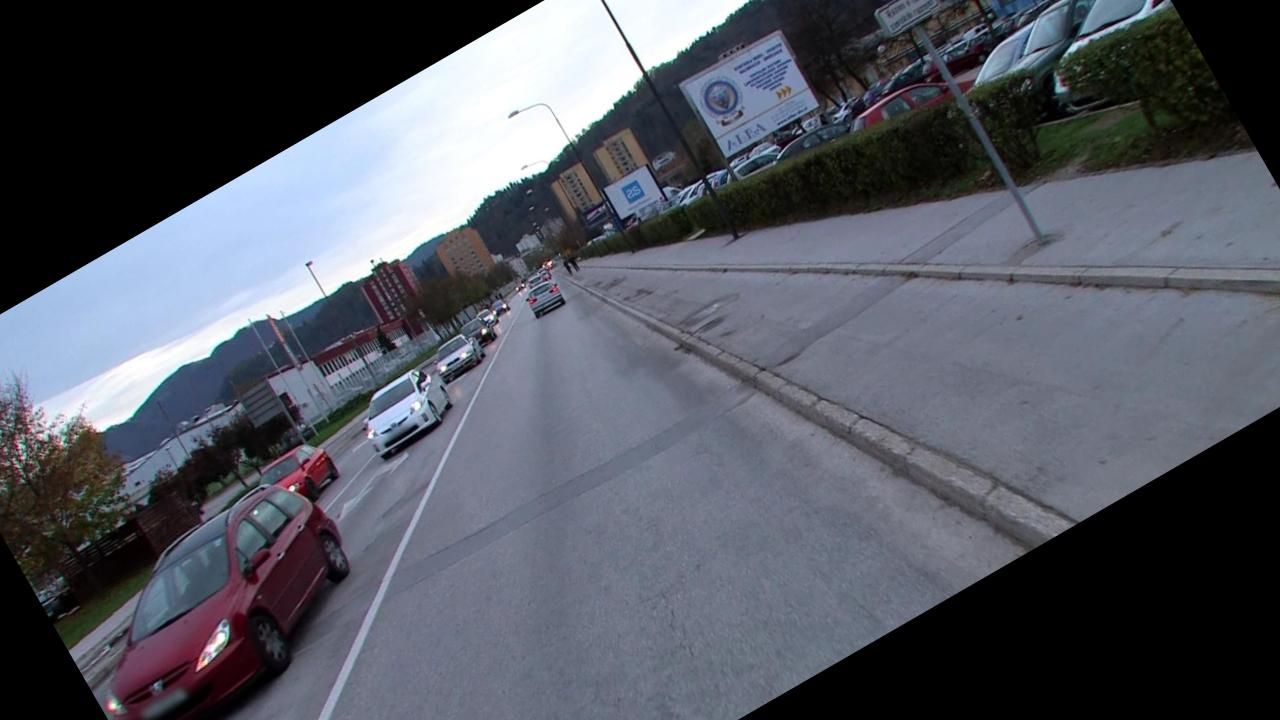Rectangle: (873, 0, 946, 39)
